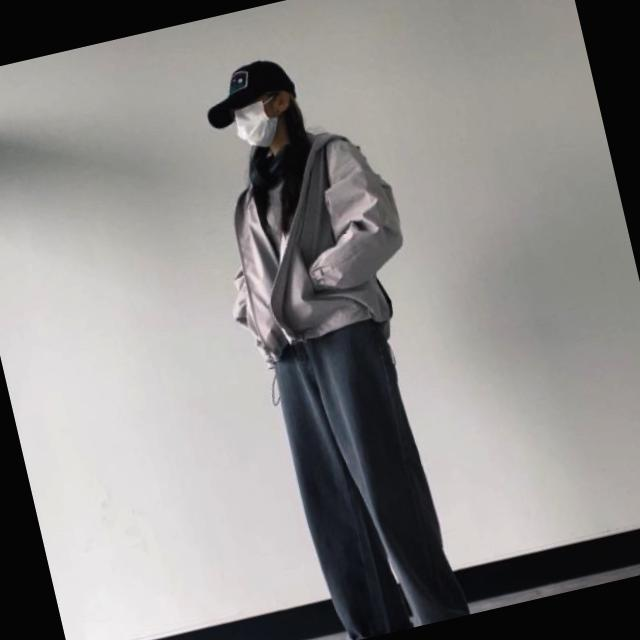denimpants: (265, 314, 472, 640)
jacket: (196, 118, 422, 355)
